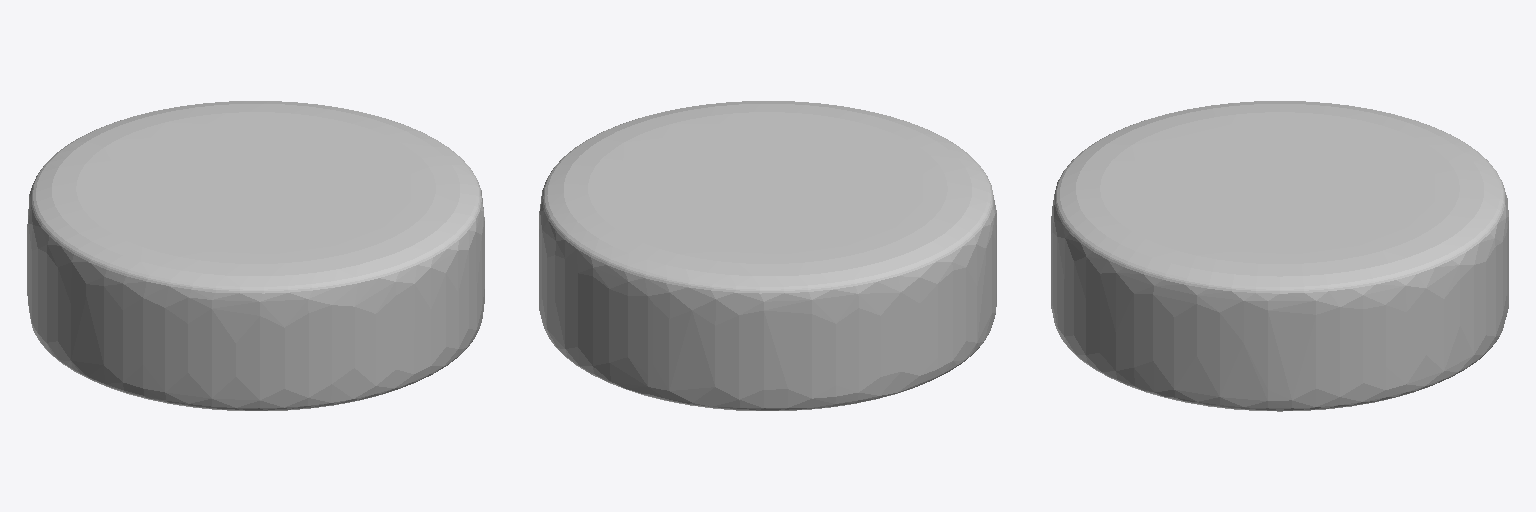
Rendered from nissan__leaf_wheel_collision_qhull.obj.
3 renders of one model, left to right at view 1: azimuth 30°, elevation 25°; view 2: azimuth 150°, elevation 25°; view 3: azimuth 270°, elevation 25°, orthographic.
Bounding box in the file's own units: 0.6256 × 0.2053 × 0.6258.